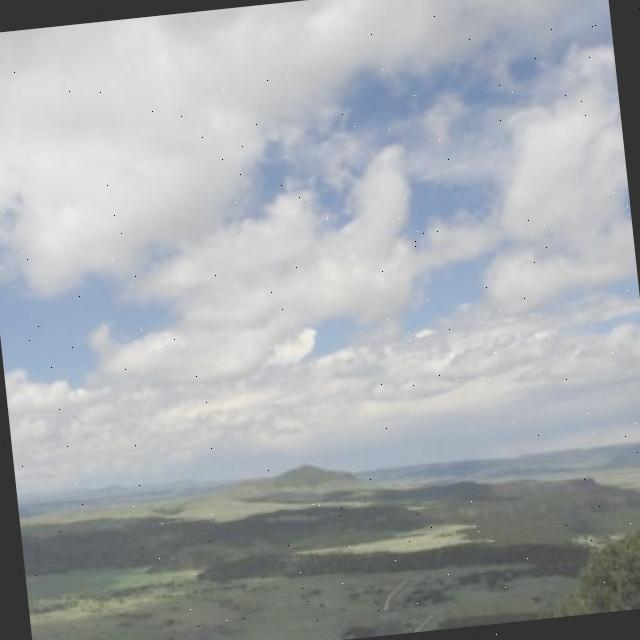Ci: (1, 1, 640, 484)
